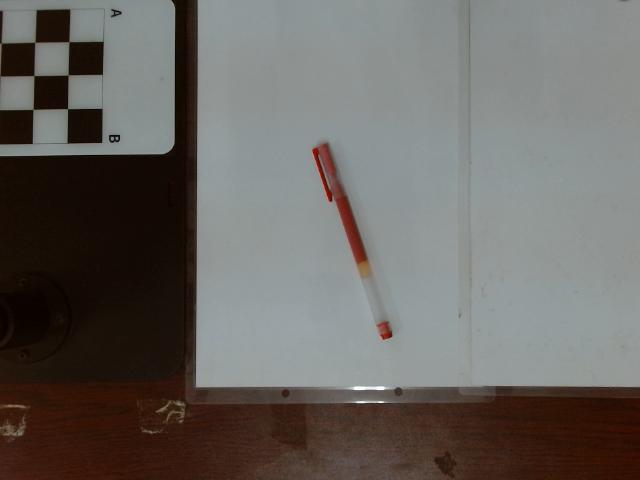PEN: (310, 142, 391, 343)
